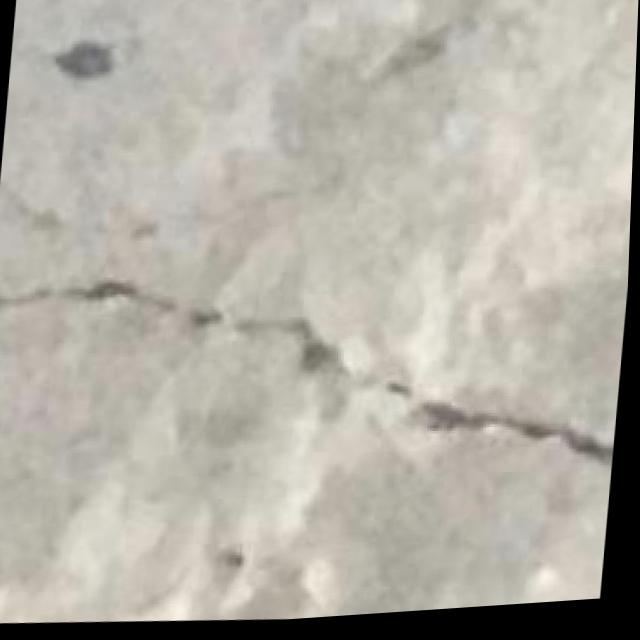Crack: (0, 230, 632, 514)
